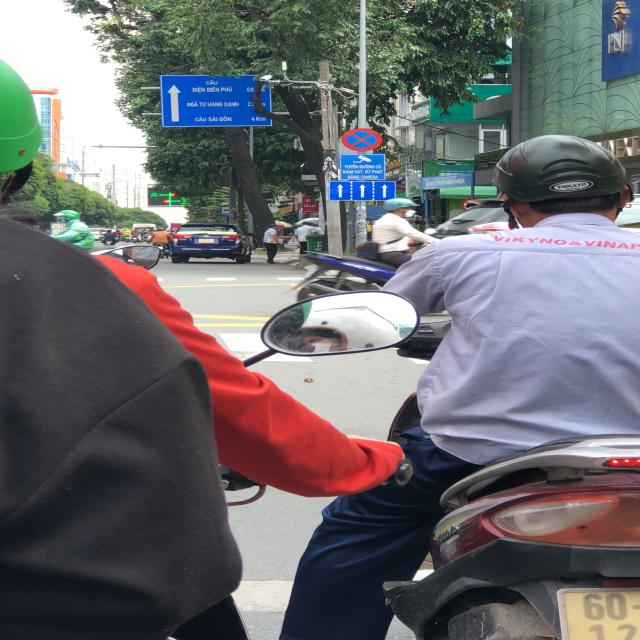Bien bao cam dung xe va do xe: (338, 124, 389, 152)
